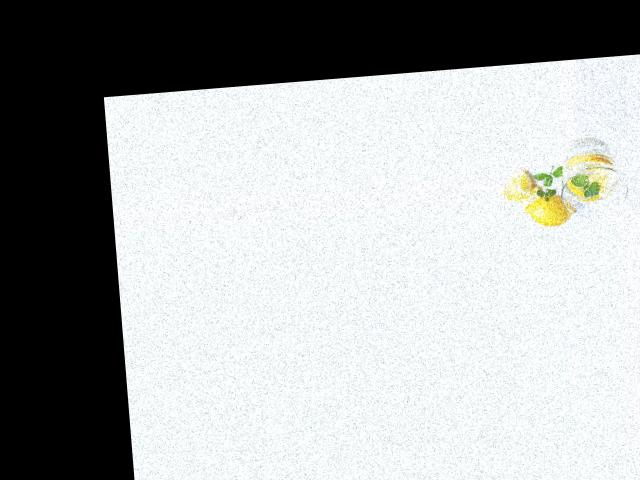lemon: (524, 188, 581, 230)
